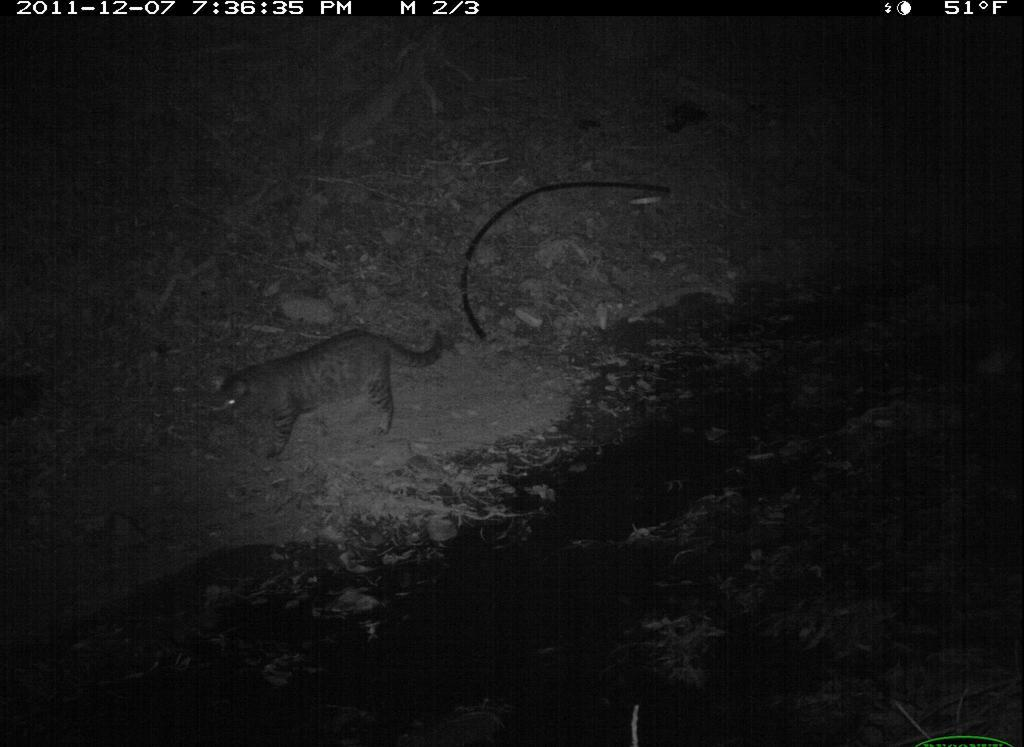cat: (208, 317, 457, 469)
